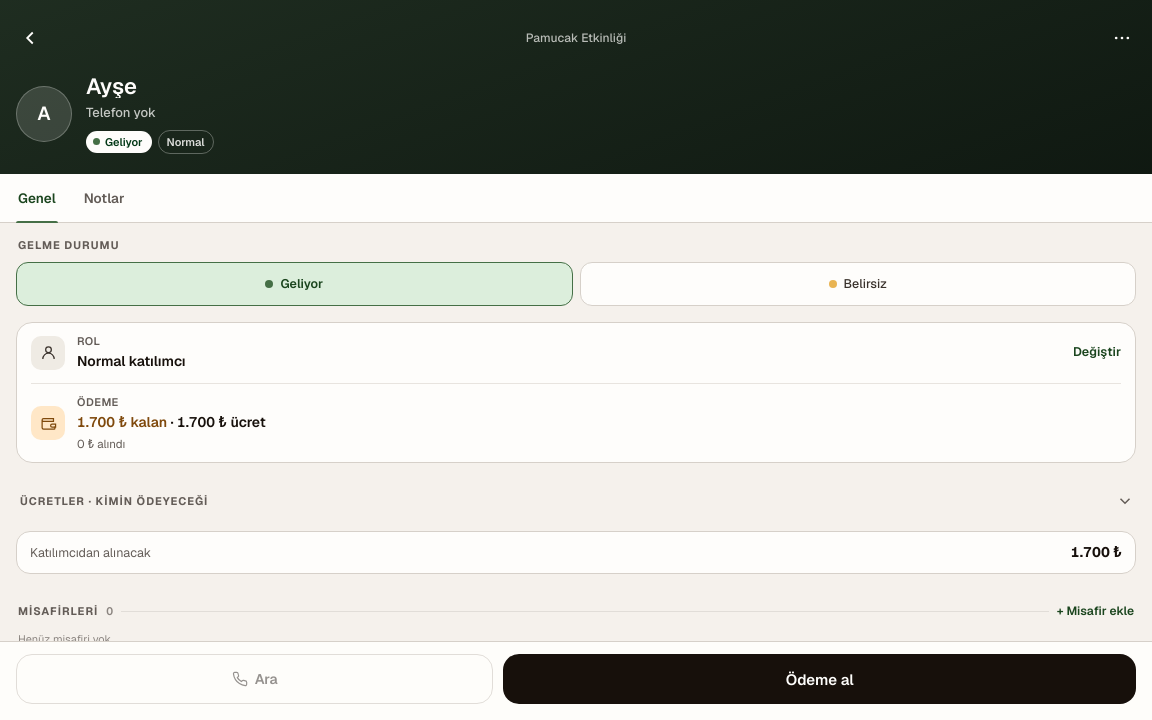
Test case: Etkinlik katılımcısının ücretleri › tahsilatta Türkçe ondalığı, ödeme kaynağını ve işlem anahtarını gönderir
Click the button "Ödeme al".
click(820, 679)  # box [503,654,1136,704]
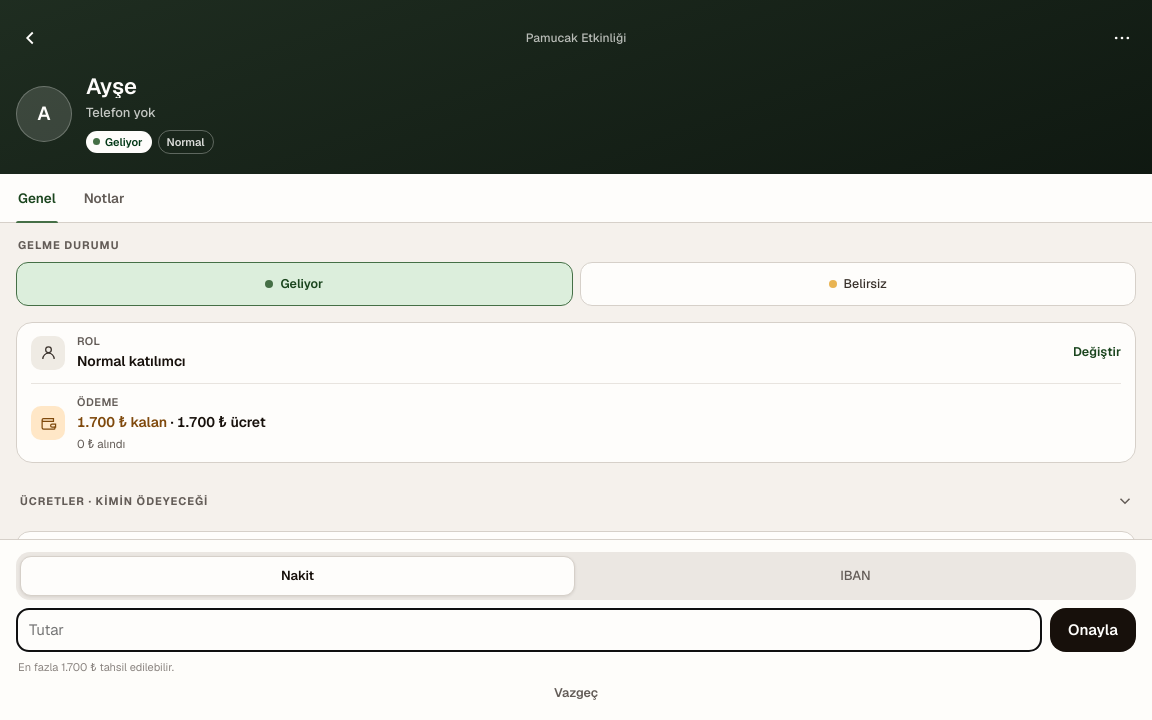
Type "100,50" into the field with placeholder "Tutar".
click(529, 630); type("100,50")  # box [16,608,1042,652]
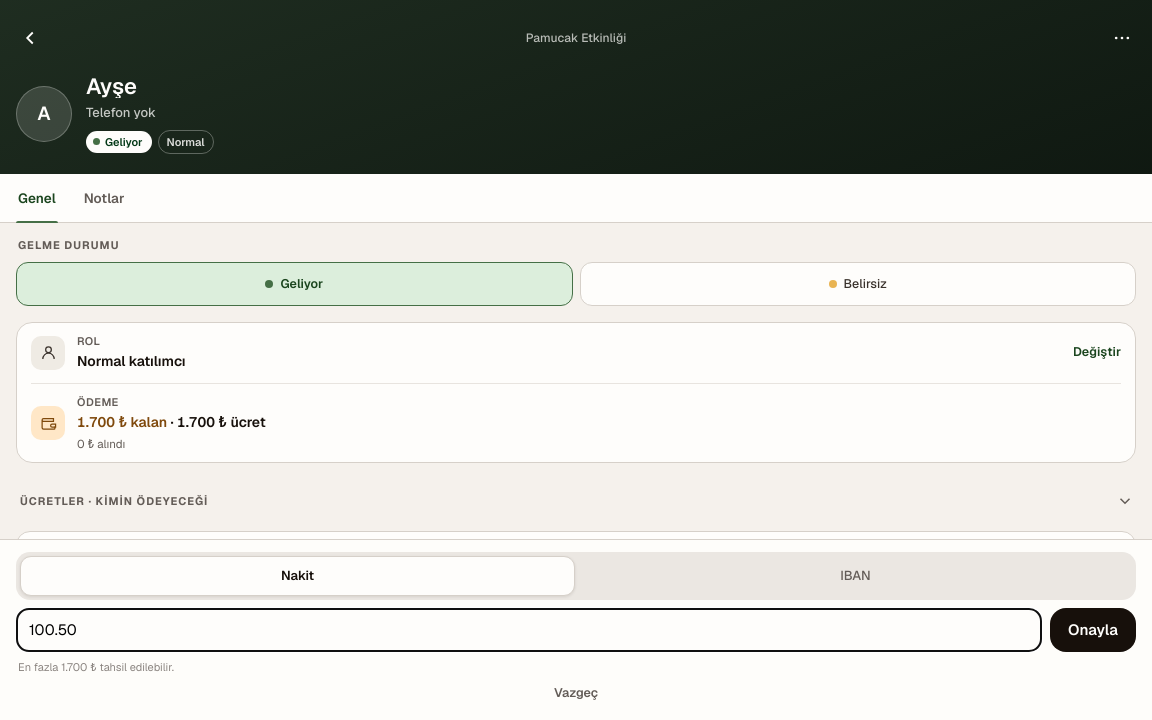
Click the button "IBAN".
click(856, 576)  # box [579,556,1132,596]
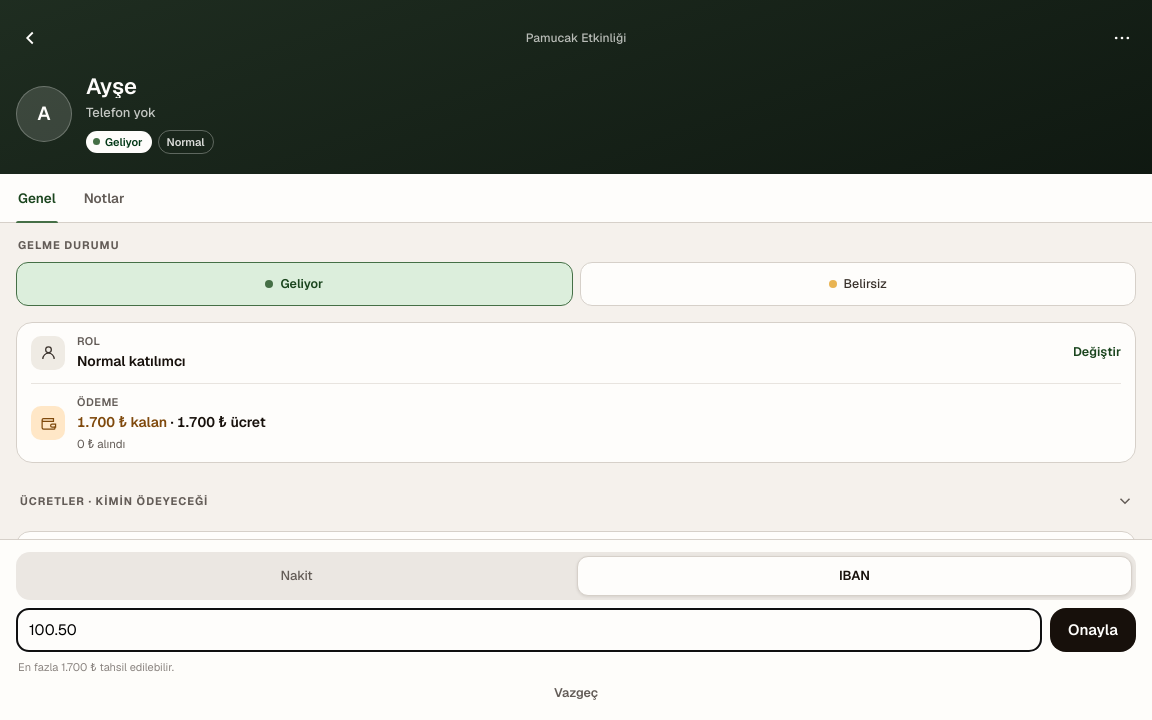
Click the button "Onayla".
click(1093, 630)  # box [1050,608,1136,652]
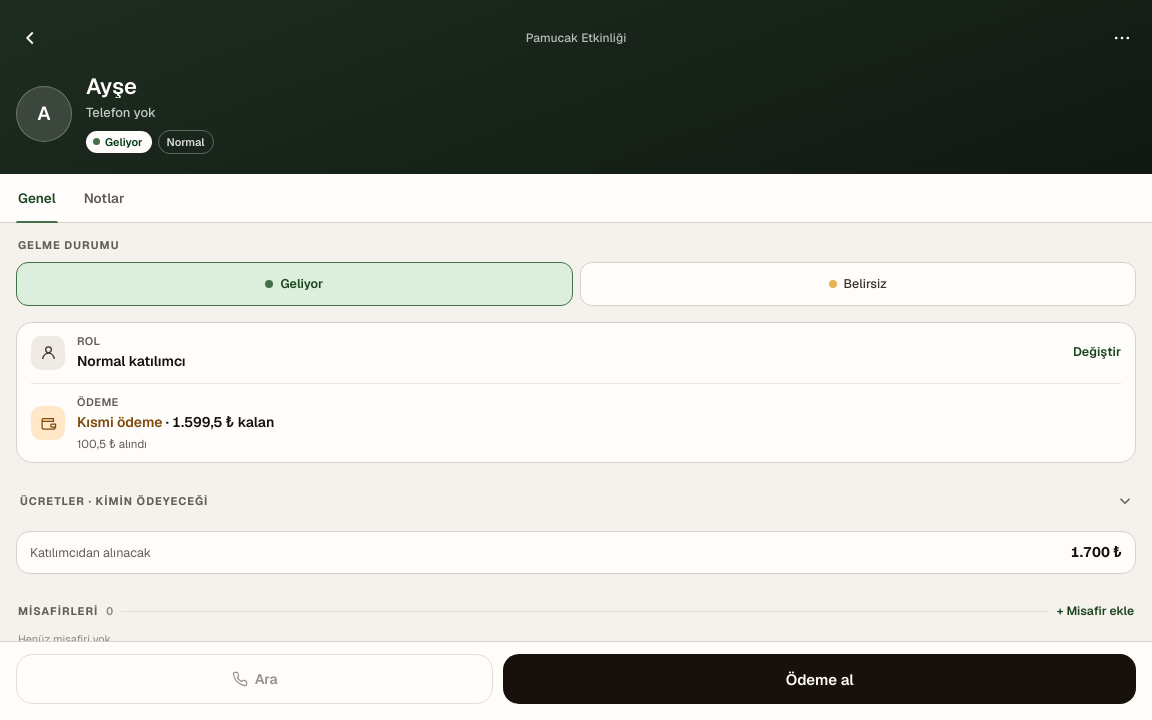
Result: the text "Kısmi ödeme" is shown at [77,413,162,431]
